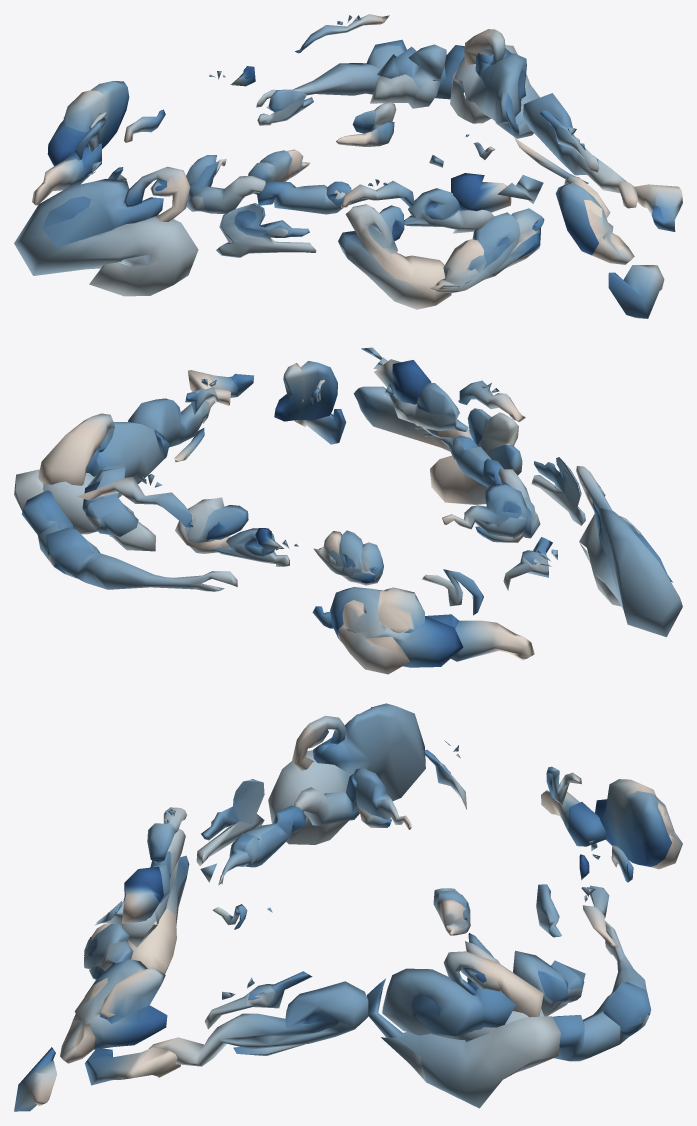
The model's file is clouds_01.gltf.
3 views of the same model, one above another, from view 1: azimuth 30°, elevation 25°; view 2: azimuth 150°, elevation 25°; view 3: azimuth 270°, elevation 25° (orthographic). The views are drawn at different scales.
Visible parts, largest first — view 1: G_clouds; view 2: G_clouds; view 3: G_clouds.
Part boxes in pixels (left/top/right/bottom): G_clouds: left=14, top=14, right=682, bottom=318; G_clouds: left=14, top=347, right=682, bottom=674; G_clouds: left=14, top=703, right=682, bottom=1111.
Bounding box in the file's own units: 83.56 × 21.96 × 71.04.
Materials: 1 (1 with a texture image).
